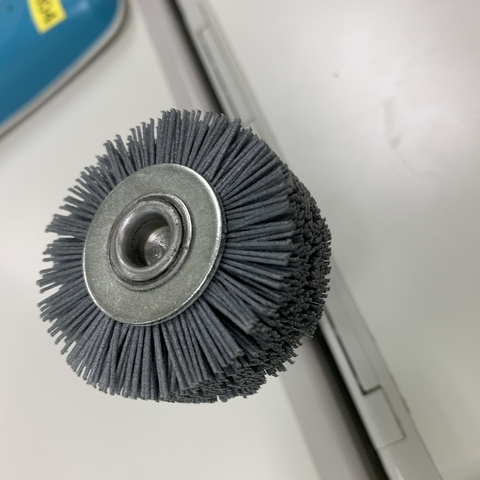Wheel Brush: (10, 109, 356, 405), (27, 107, 336, 399), (77, 101, 331, 407)
